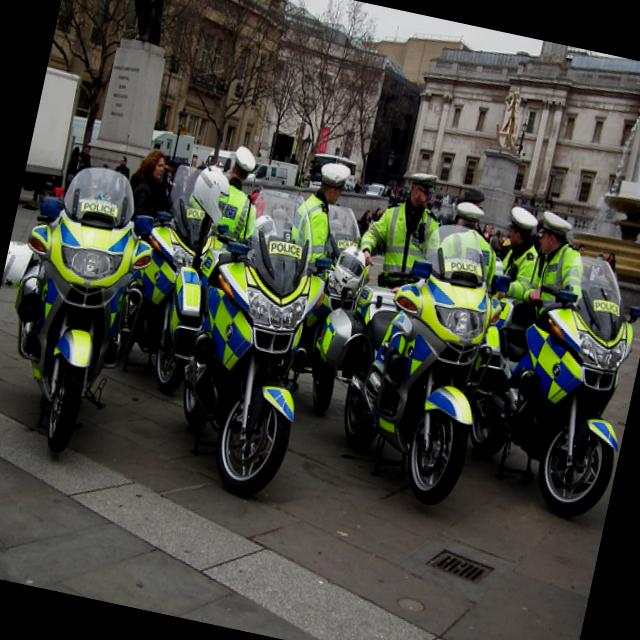Vehicle: (134, 172, 344, 499), (433, 237, 640, 524), (300, 200, 524, 458), (0, 153, 169, 462), (118, 159, 235, 398), (18, 62, 85, 210), (315, 202, 368, 264), (484, 252, 522, 298), (148, 128, 196, 164), (202, 144, 236, 174)
